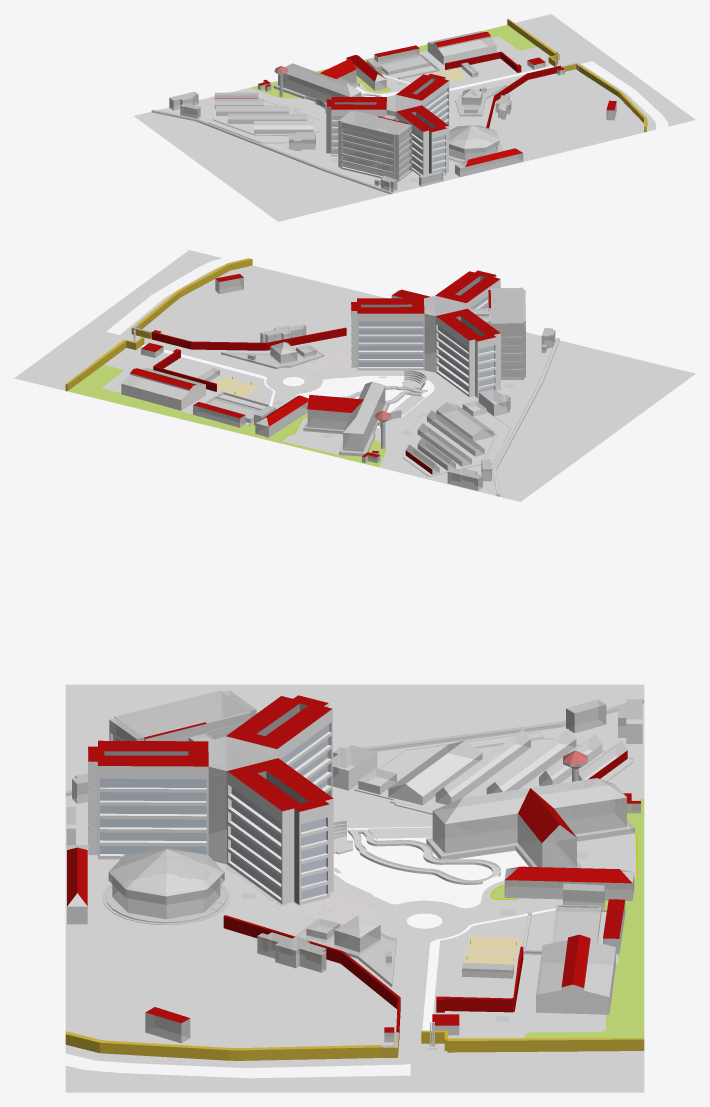
The picture shows the model from 3 angles, top to bottom: view 1: azimuth 30°, elevation 25°; view 2: azimuth 150°, elevation 25°; view 3: azimuth 270°, elevation 25°; orthographic projection. The views are drawn at different scales.
Parts seen in each view (by area): view 1: Node715, Node298, Node1732, Node888, Node299, Node918, Node714, Node233, Node1892, Node227, Node910, Node920 (+33 smaller); view 2: Node715, Node1732, Node298, Node714, Node888, Node233, Node2511, Node918, Node299, Node920, Node248, Node910 (+36 smaller); view 3: Node1732, Node715, Node298, Node888, Node714, Node918, Node299, Node2240, Node248, Node226, Node233, Node910 (+64 smaller).
Part boxes in pixels (left/top/right/bottom): Node715: left=134, top=111, right=389, bottom=221; Node298: left=516, top=83, right=600, bottom=146; Node1732: left=204, top=22, right=655, bottom=187; Node888: left=491, top=72, right=643, bottom=156; Node299: left=509, top=80, right=607, bottom=149; Node918: left=597, top=57, right=695, bottom=125; Node714: left=251, top=25, right=536, bottom=98; Node233: left=209, top=98, right=319, bottom=142; Node1892: left=342, top=122, right=394, bottom=158; Node227: left=285, top=63, right=350, bottom=96; Node910: left=421, top=37, right=549, bottom=68; Node920: left=535, top=14, right=604, bottom=56; Node715: left=496, top=340, right=695, bottom=501; Node1732: left=56, top=265, right=532, bottom=480; Node298: left=172, top=287, right=347, bottom=341; Node714: left=67, top=365, right=386, bottom=467; Node888: left=142, top=265, right=373, bottom=342; Node233: left=402, top=408, right=510, bottom=475; Node2511: left=357, top=313, right=424, bottom=370; Node918: left=85, top=250, right=215, bottom=330; Node299: left=164, top=283, right=355, bottom=342; Node920: left=14, top=330, right=94, bottom=382; Node248: left=303, top=402, right=389, bottom=453; Node910: left=103, top=352, right=216, bottom=412; Node1732: left=65, top=731, right=644, bottom=1075; Node715: left=65, top=684, right=644, bottom=791; Node298: left=88, top=946, right=360, bottom=1047; Node888: left=65, top=929, right=380, bottom=1047; Node714: left=491, top=798, right=644, bottom=1038; Node918: left=65, top=1071, right=410, bottom=1092; Node299: left=73, top=940, right=374, bottom=1047; Node2240: left=98, top=766, right=208, bottom=859; Node248: left=426, top=814, right=634, bottom=868; Node226: left=445, top=778, right=626, bottom=824; Node233: left=354, top=731, right=633, bottom=813; Node910: left=448, top=956, right=616, bottom=1038.
Size of what is drawn, in the model's own units: 8013 by 658 by 3694.
